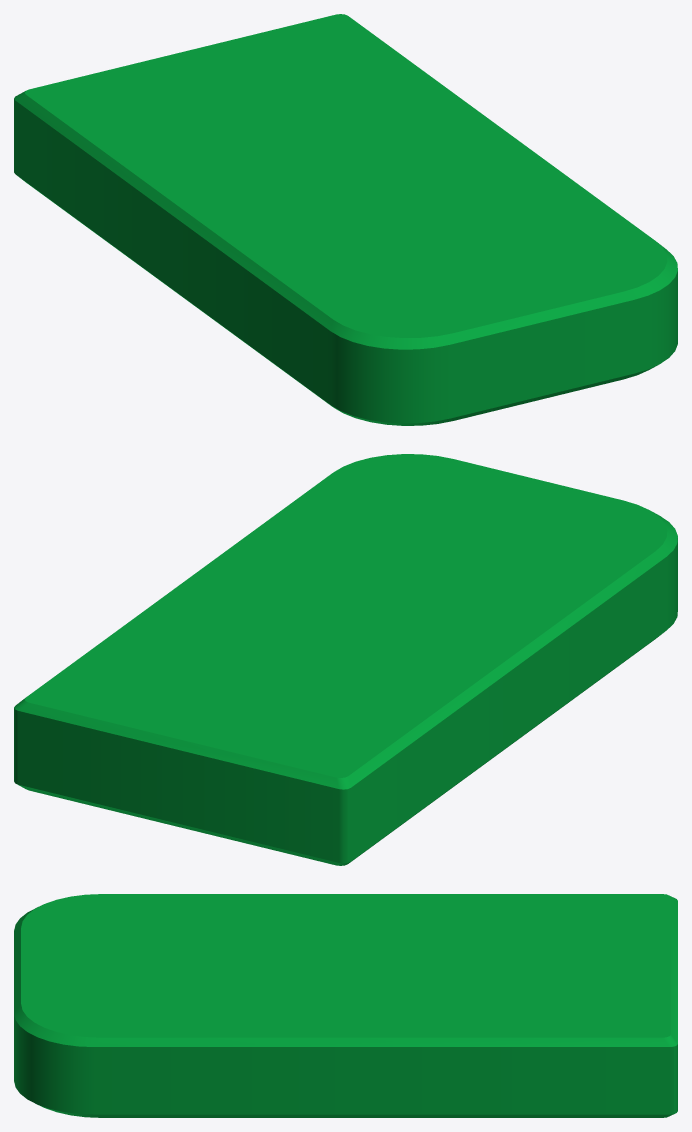
The model's file is p-sideBoard-bawah.fbx.
3 views of the same model, one above another, from view 1: azimuth 30°, elevation 25°; view 2: azimuth 150°, elevation 25°; view 3: azimuth 270°, elevation 25° (orthographic). The views are drawn at different scales.
Visible parts, largest first — view 1: Cube.002; view 2: Cube.002; view 3: Cube.002.
Part boxes in pixels (x1=…): Cube.002: x1=14, y1=14, x2=677, y2=425; Cube.002: x1=14, y1=454, x2=677, y2=865; Cube.002: x1=14, y1=894, x2=677, y2=1117.
Size of the model in its own units: 80 by 20 by 150.
1 material, 1 textured.
